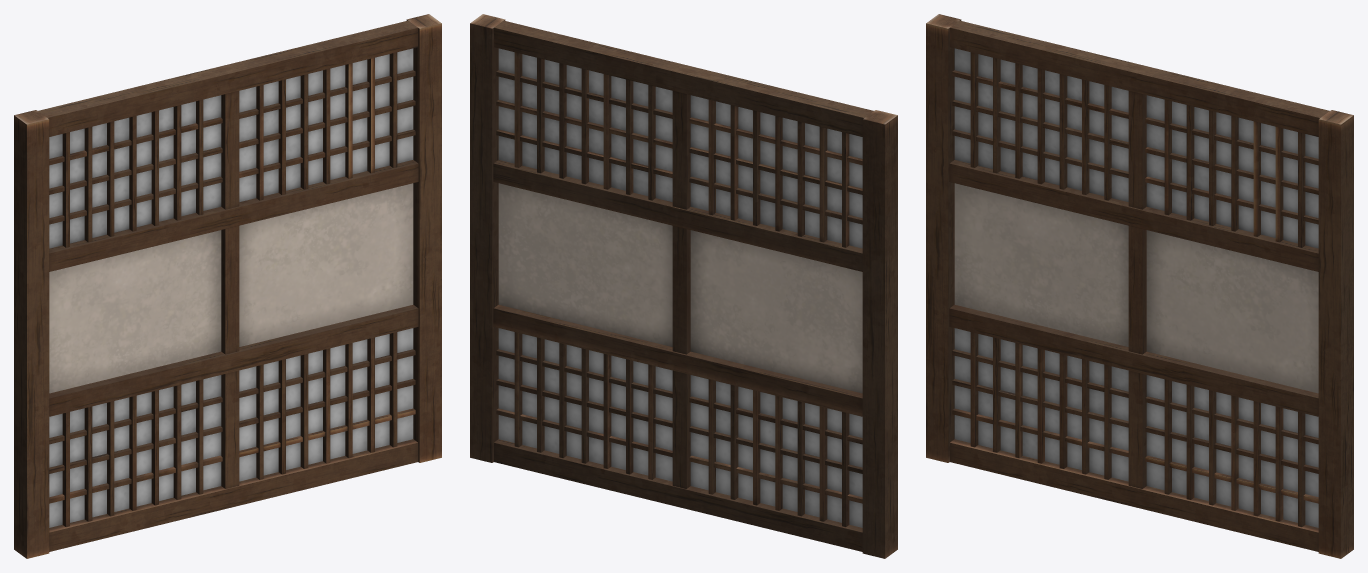
Rendered from Wall_E.fbx.
3 views of the same model, side by side, from view 1: azimuth 30°, elevation 25°; view 2: azimuth 150°, elevation 25°; view 3: azimuth 330°, elevation 25° (orthographic).
Visible parts, largest first — view 1: Wall_E; view 2: Wall_E; view 3: Wall_E.
Boxes of the visible parts, x1=… form: Wall_E: x1=14, y1=14, x2=441, y2=558; Wall_E: x1=470, y1=14, x2=897, y2=558; Wall_E: x1=926, y1=14, x2=1353, y2=558.
Size of the model in its own units: 400 by 400 by 21.45.
